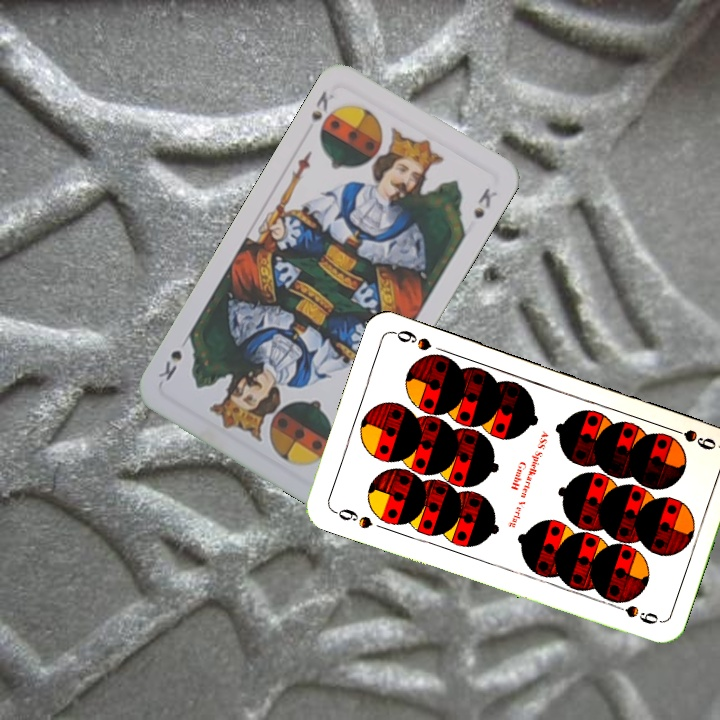S9: (662, 423, 719, 453), (328, 504, 375, 531)
SK: (301, 86, 337, 138)
